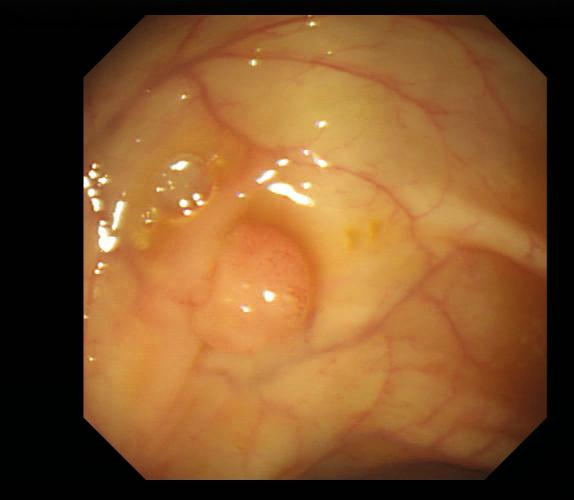polyp: (201, 219, 319, 357)
